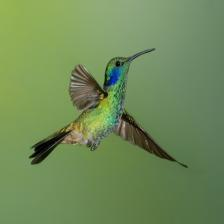Beak: (128, 49, 155, 61)
BirdBody: (29, 48, 187, 167)
Chest: (72, 85, 125, 150)
Foot: (86, 139, 100, 151)
GreenBGD: (0, 1, 224, 223)
Head: (104, 49, 155, 88)
Tail: (29, 122, 74, 164)
Wing: (114, 110, 188, 167), (69, 65, 108, 110)
